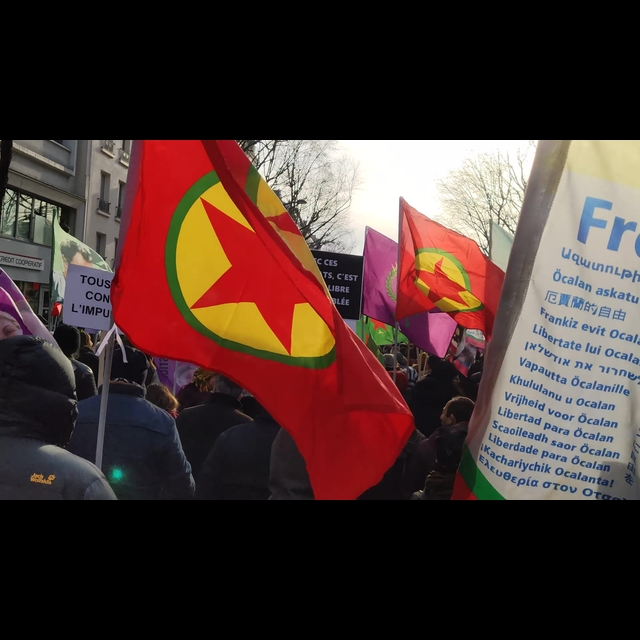PKK: (159, 157, 363, 380), (402, 237, 489, 323)
